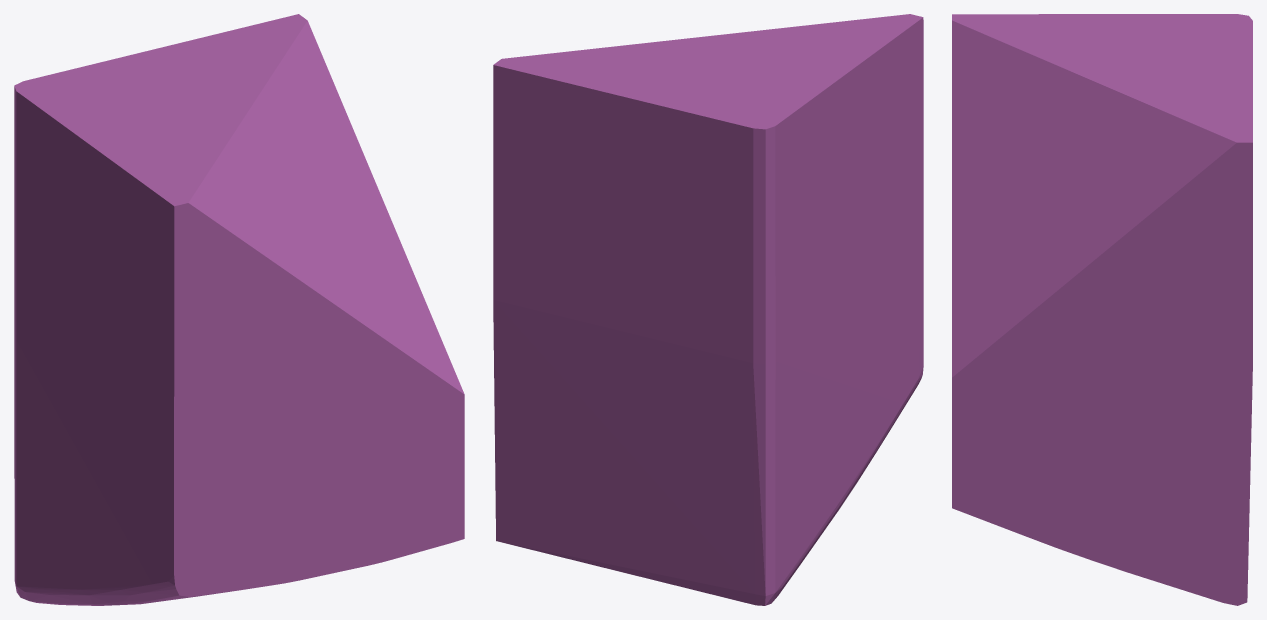
Rendered from left_palm_part_7.obj.
The picture shows the model from 3 angles, left to right: view 1: azimuth 30°, elevation 25°; view 2: azimuth 150°, elevation 25°; view 3: azimuth 270°, elevation 25°; orthographic projection. The views are drawn at different scales.
Size of the model in its own units: 11.02 by 18.54 by 10.89.
